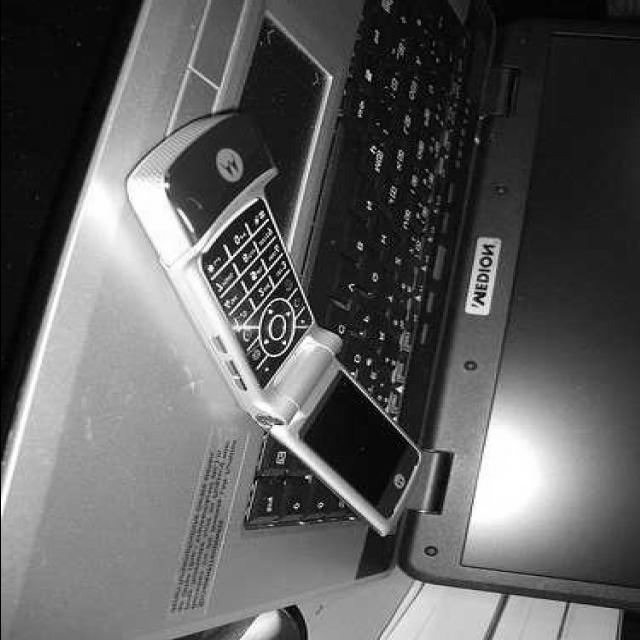laptop: (65, 0, 639, 605)
